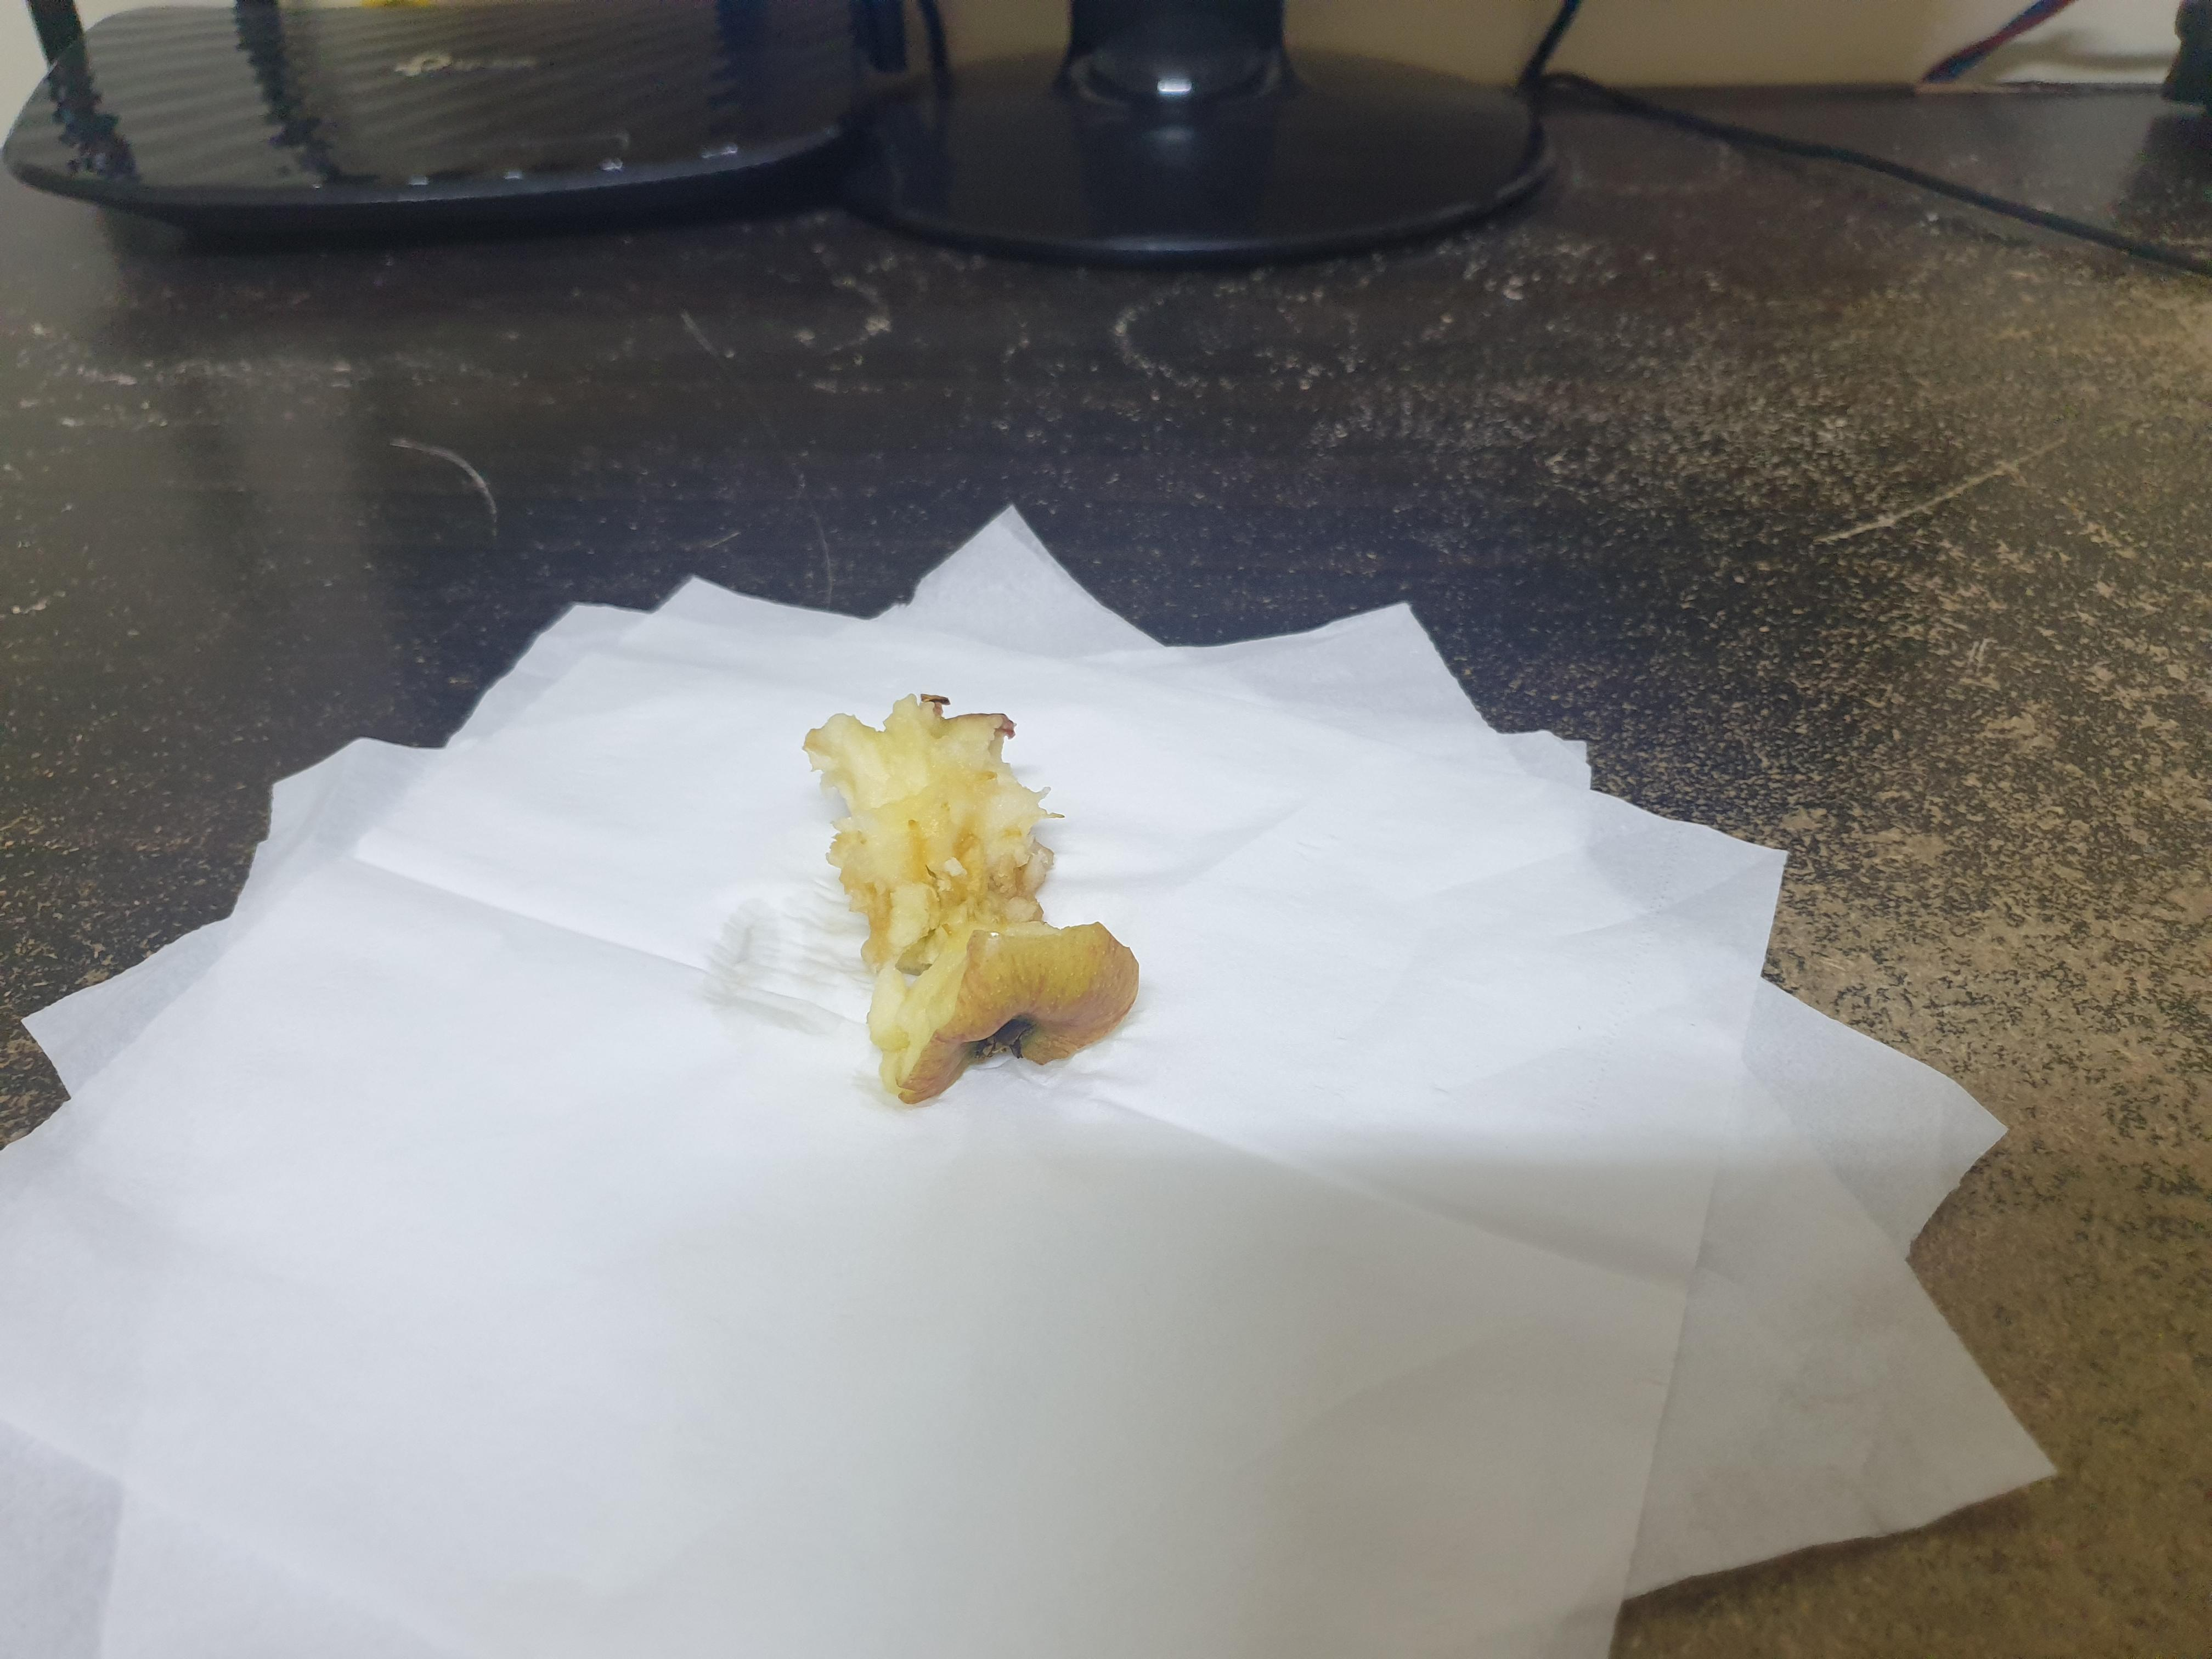Apple: (794, 676, 1162, 1114)
